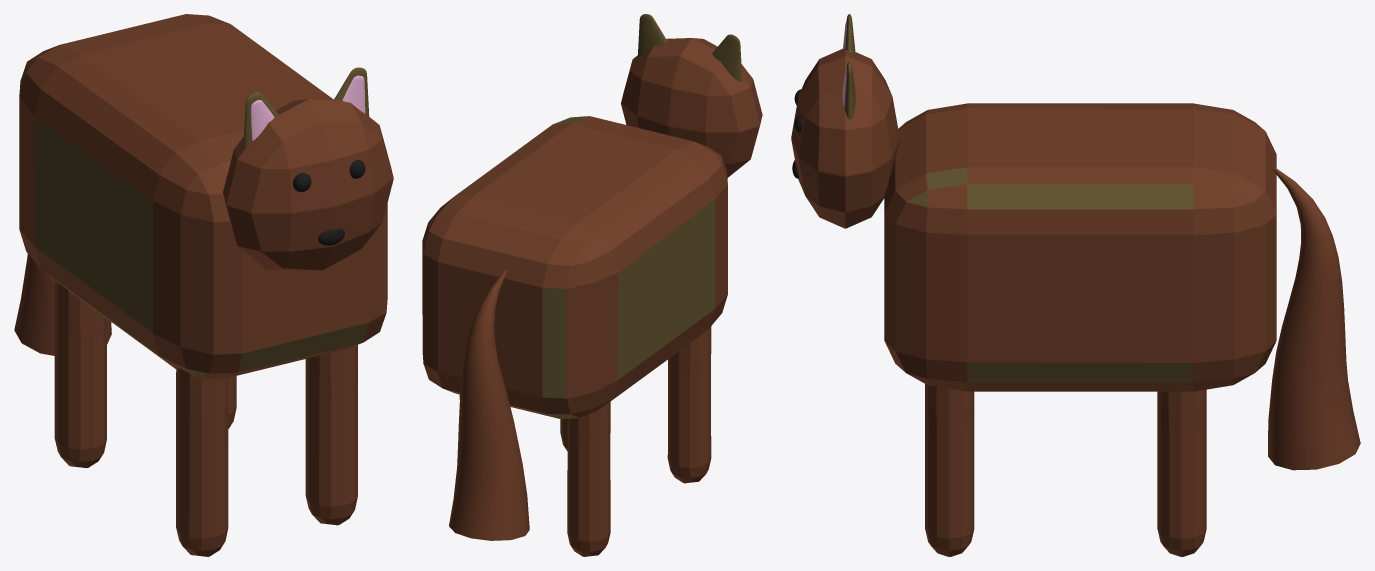
Rendered from chat.glb.
3 views of the same model, side by side, from view 1: azimuth 30°, elevation 25°; view 2: azimuth 150°, elevation 25°; view 3: azimuth 270°, elevation 25° (orthographic). The views are drawn at different scales.
Visible parts, largest first — view 1: Cube.001, Cube, CAT head, BezierCurve, Cylinder.001, Cylinder, Sphere.001; view 2: Cube.001, BezierCurve, CAT head, Cube, Cylinder; view 3: Cube.001, BezierCurve, Cube, CAT head, Cylinder.
Part boxes in pixels (x1=…): Cube.001: x1=19, y1=14, x2=387, y2=379; Cube: x1=54, y1=281, x2=357, y2=556; CAT head: x1=223, y1=99, x2=393, y2=271; BezierCurve: x1=14, y1=254, x2=111, y2=355; Cylinder.001: x1=251, y1=75, x2=365, y2=140; Cylinder: x1=243, y1=67, x2=369, y2=148; Sphere.001: x1=293, y1=160, x2=365, y2=192; Cube.001: x1=422, y1=116, x2=727, y2=419; BezierCurve: x1=449, y1=269, x2=529, y2=540; CAT head: x1=621, y1=38, x2=762, y2=177; Cube: x1=459, y1=326, x2=711, y2=556; Cylinder: x1=637, y1=14, x2=742, y2=81; Cube.001: x1=884, y1=103, x2=1276, y2=391; BezierCurve: x1=1268, y1=167, x2=1360, y2=470; Cube: x1=925, y1=384, x2=1206, y2=556; CAT head: x1=791, y1=48, x2=899, y2=228; Cylinder: x1=844, y1=14, x2=855, y2=119.
Size of the model in its own units: 0.8133 by 1.77 by 1.9.
